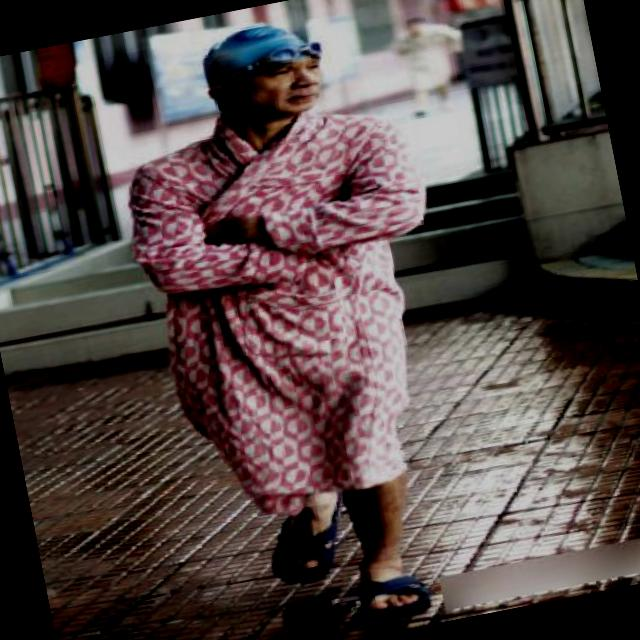Person: (72, 0, 564, 640)
